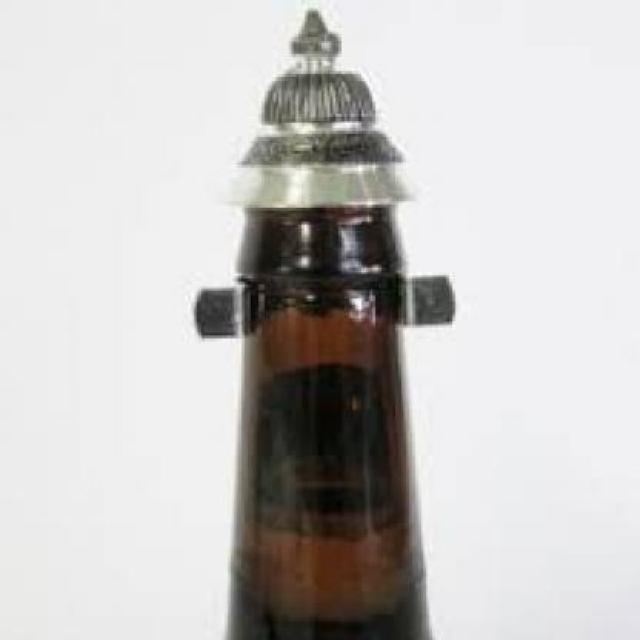GLASS: (228, 201, 429, 637)
METAL: (228, 6, 412, 200)
